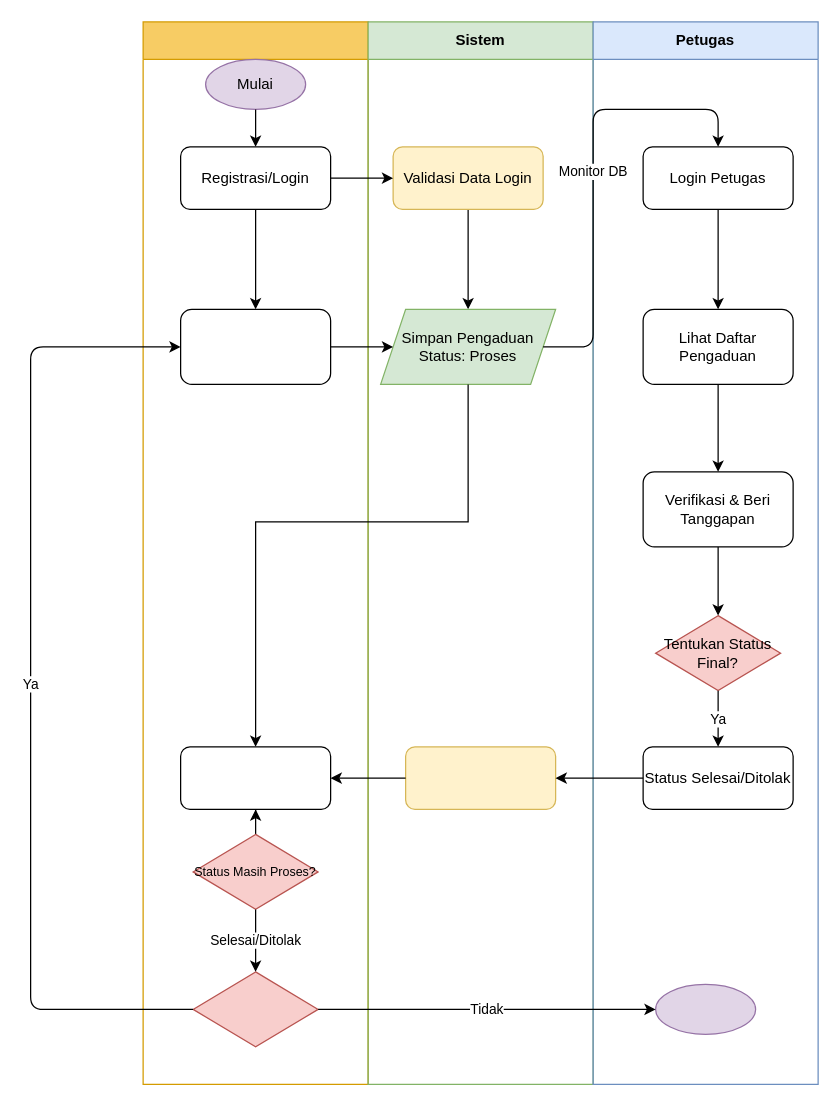
The diagram is 840 pixels wide and 1106 high, and some of its shapes have lost their labels. The box of each missing label's shape, as (x1, y1, x2, y2) in pixels:
Buat Pengaduan (Data & Dok.): (179, 308, 331, 384)
Buat Pengaduan Baru?: (192, 971, 318, 1047)
Lihat Status & Tanggapan: (179, 746, 331, 809)
Pengguna: (142, 21, 368, 1084)
Selesai: (654, 983, 756, 1034)
Update Status Pengaduan: (404, 746, 556, 809)
